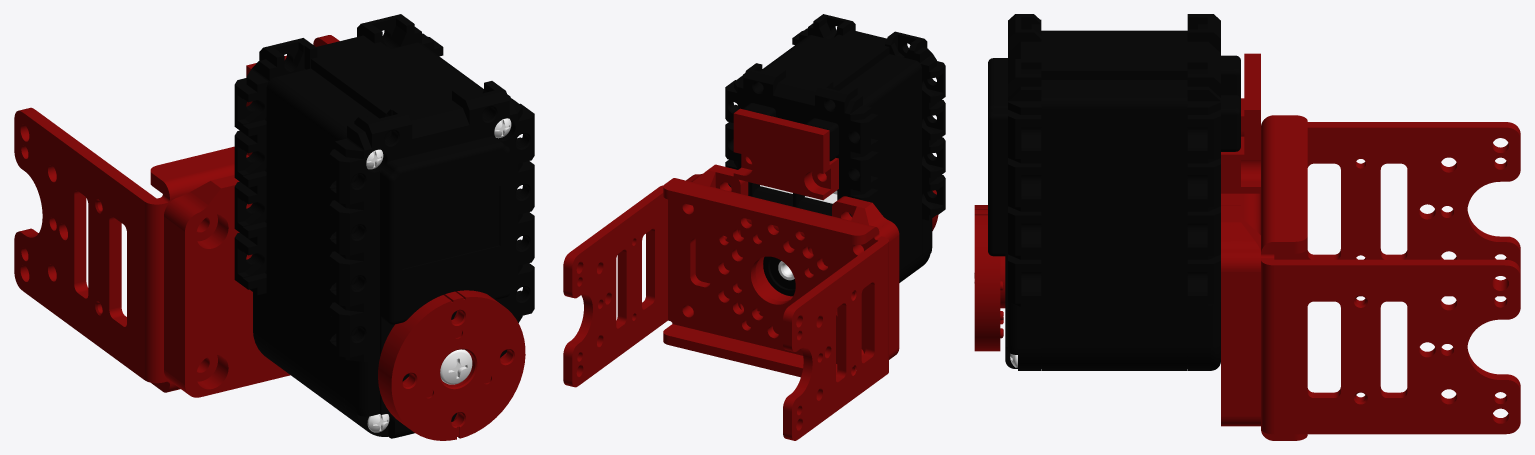
Rendered from wrist.dae.
3 renders of one model, left to right at view 1: azimuth 30°, elevation 25°; view 2: azimuth 150°, elevation 25°; view 3: azimuth 270°, elevation 25°, orthographic. The views are drawn at different scales.
Visible parts, largest first — view 1: PRT0001.003, FR05-H101 v3.025, ForeToWristRotate v11.003, PRT0006.003, PRT0007.003; view 2: FR05-H101 v3.025, PRT0001.003, ForeToWristRotate v11.002, ForeToWristRotate v11.003; view 3: PRT0001.003, FR05-H101 v3.025, ForeToWristRotate v11.003, PRT0006.003, ForeToWristRotate v11.002.
Boxes of the visible parts, <box> form: PRT0001.003: <box>234,14,534,438</box>; FR05-H101 v3.025: <box>14,35,339,392</box>; ForeToWristRotate v11.003: <box>164,175,290,397</box>; PRT0006.003: <box>378,290,525,440</box>; PRT0007.003: <box>440,349,472,384</box>; FR05-H101 v3.025: <box>563,178,888,440</box>; PRT0001.003: <box>725,14,945,296</box>; ForeToWristRotate v11.002: <box>733,108,838,200</box>; ForeToWristRotate v11.003: <box>686,164,899,359</box>; PRT0001.003: <box>988,14,1240,370</box>; FR05-H101 v3.025: <box>1261,115,1520,440</box>; ForeToWristRotate v11.003: <box>1221,193,1260,426</box>; PRT0006.003: <box>974,205,1005,351</box>; ForeToWristRotate v11.002: <box>1221,53,1260,193</box>.
Bounding box in the file's own units: 0.051 × 0.082 × 0.055.
